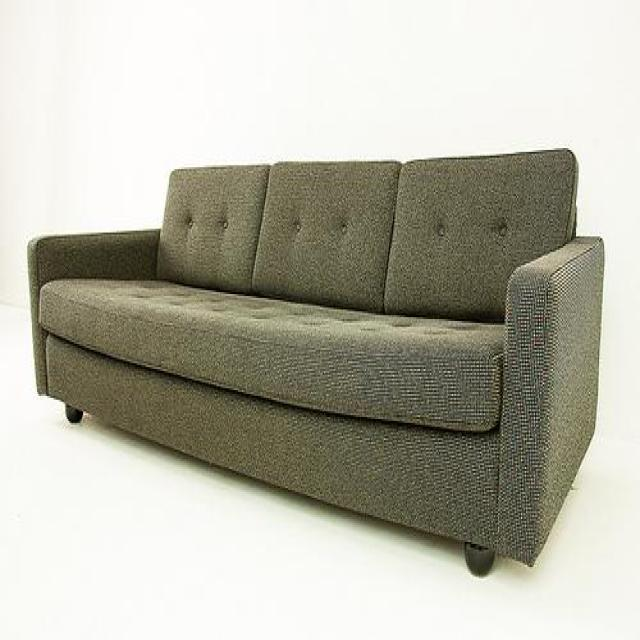sofa: (28, 159, 604, 578)
